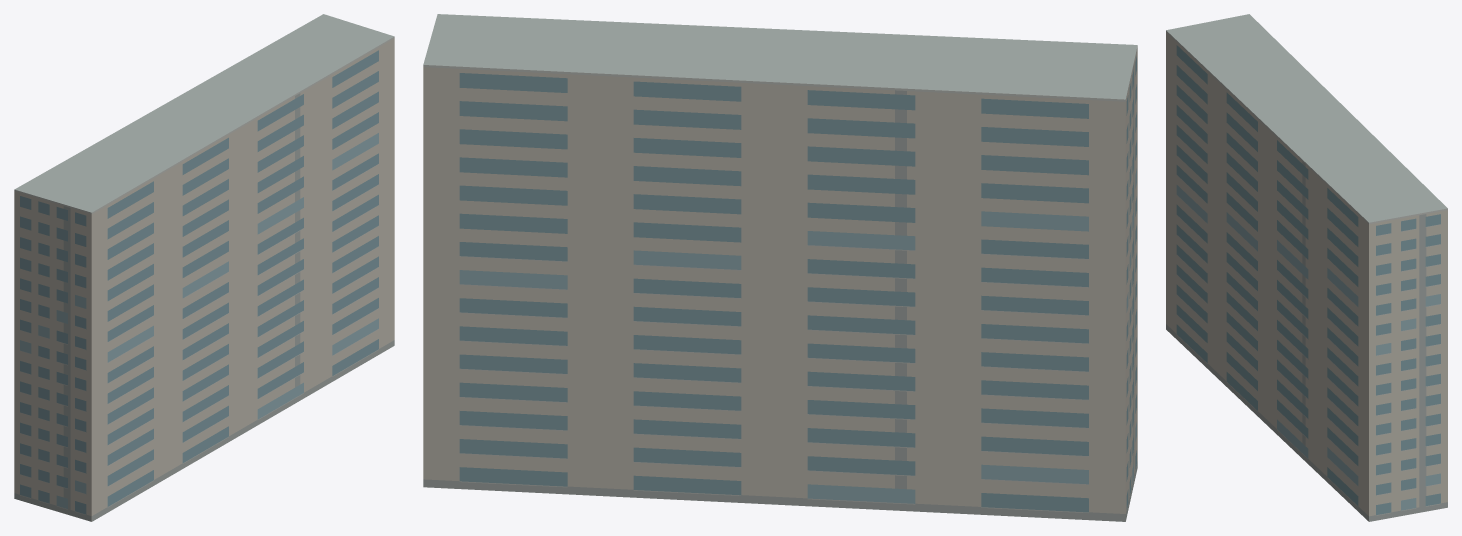
The model's file is residential-95aa71fc-97c3-4fbd-a9b3-2a91afb1c7ed.glb.
The picture shows the model from 3 angles, left to right: view 1: azimuth 30°, elevation 25°; view 2: azimuth 150°, elevation 25°; view 3: azimuth 270°, elevation 25°; orthographic projection. The views are drawn at different scales.
Visible parts, largest first — view 1: residential-95aa71fc-97c3-4fbd-a9b3-2a91afb1c7ed.tmp; view 2: residential-95aa71fc-97c3-4fbd-a9b3-2a91afb1c7ed.tmp; view 3: residential-95aa71fc-97c3-4fbd-a9b3-2a91afb1c7ed.tmp.
Boxes of the visible parts, x1=… form: residential-95aa71fc-97c3-4fbd-a9b3-2a91afb1c7ed.tmp: x1=14, y1=14, x2=394, y2=521; residential-95aa71fc-97c3-4fbd-a9b3-2a91afb1c7ed.tmp: x1=423, y1=14, x2=1137, y2=521; residential-95aa71fc-97c3-4fbd-a9b3-2a91afb1c7ed.tmp: x1=1166, y1=14, x2=1447, y2=521.
Bounding box in the file's own units: 68.45 × 45.75 × 39.07.
